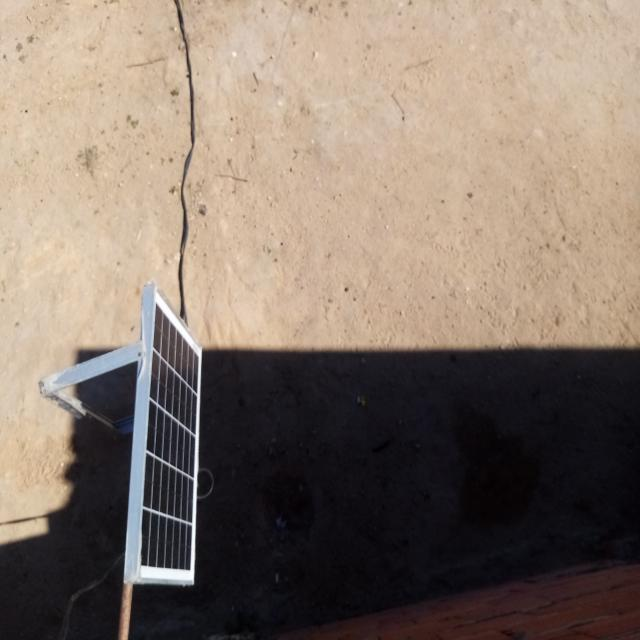no faulty: (132, 285, 202, 585)
